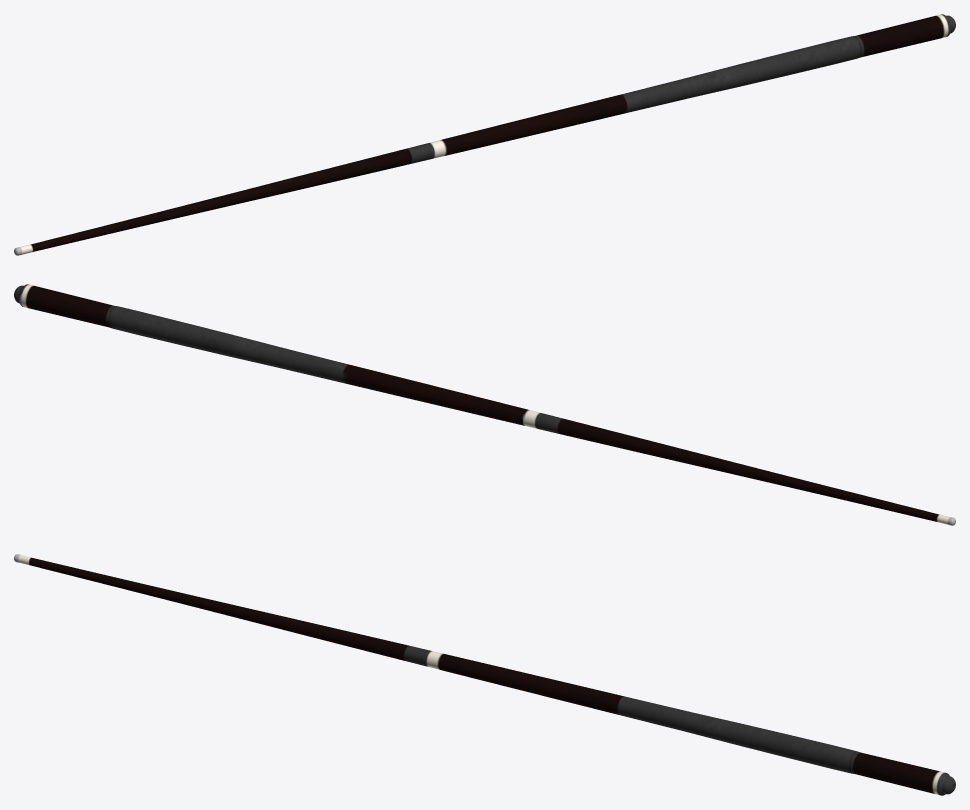
The model's file is cue_simple2.glb.
The picture shows the model from 3 angles, top to bottom: view 1: azimuth 30°, elevation 25°; view 2: azimuth 150°, elevation 25°; view 3: azimuth 330°, elevation 25°; orthographic projection.
Visible parts, largest first — view 1: cues2; view 2: cues2; view 3: cues2.
Part boxes in pixels (box(x1,y1,x2,y2)): cues2: box(14, 14, 955, 255); cues2: box(14, 284, 955, 525); cues2: box(14, 554, 955, 795).
Bounding box in the file's own units: 1.81 × 0.039 × 0.039.
Materials: 1 (1 with a texture image).
